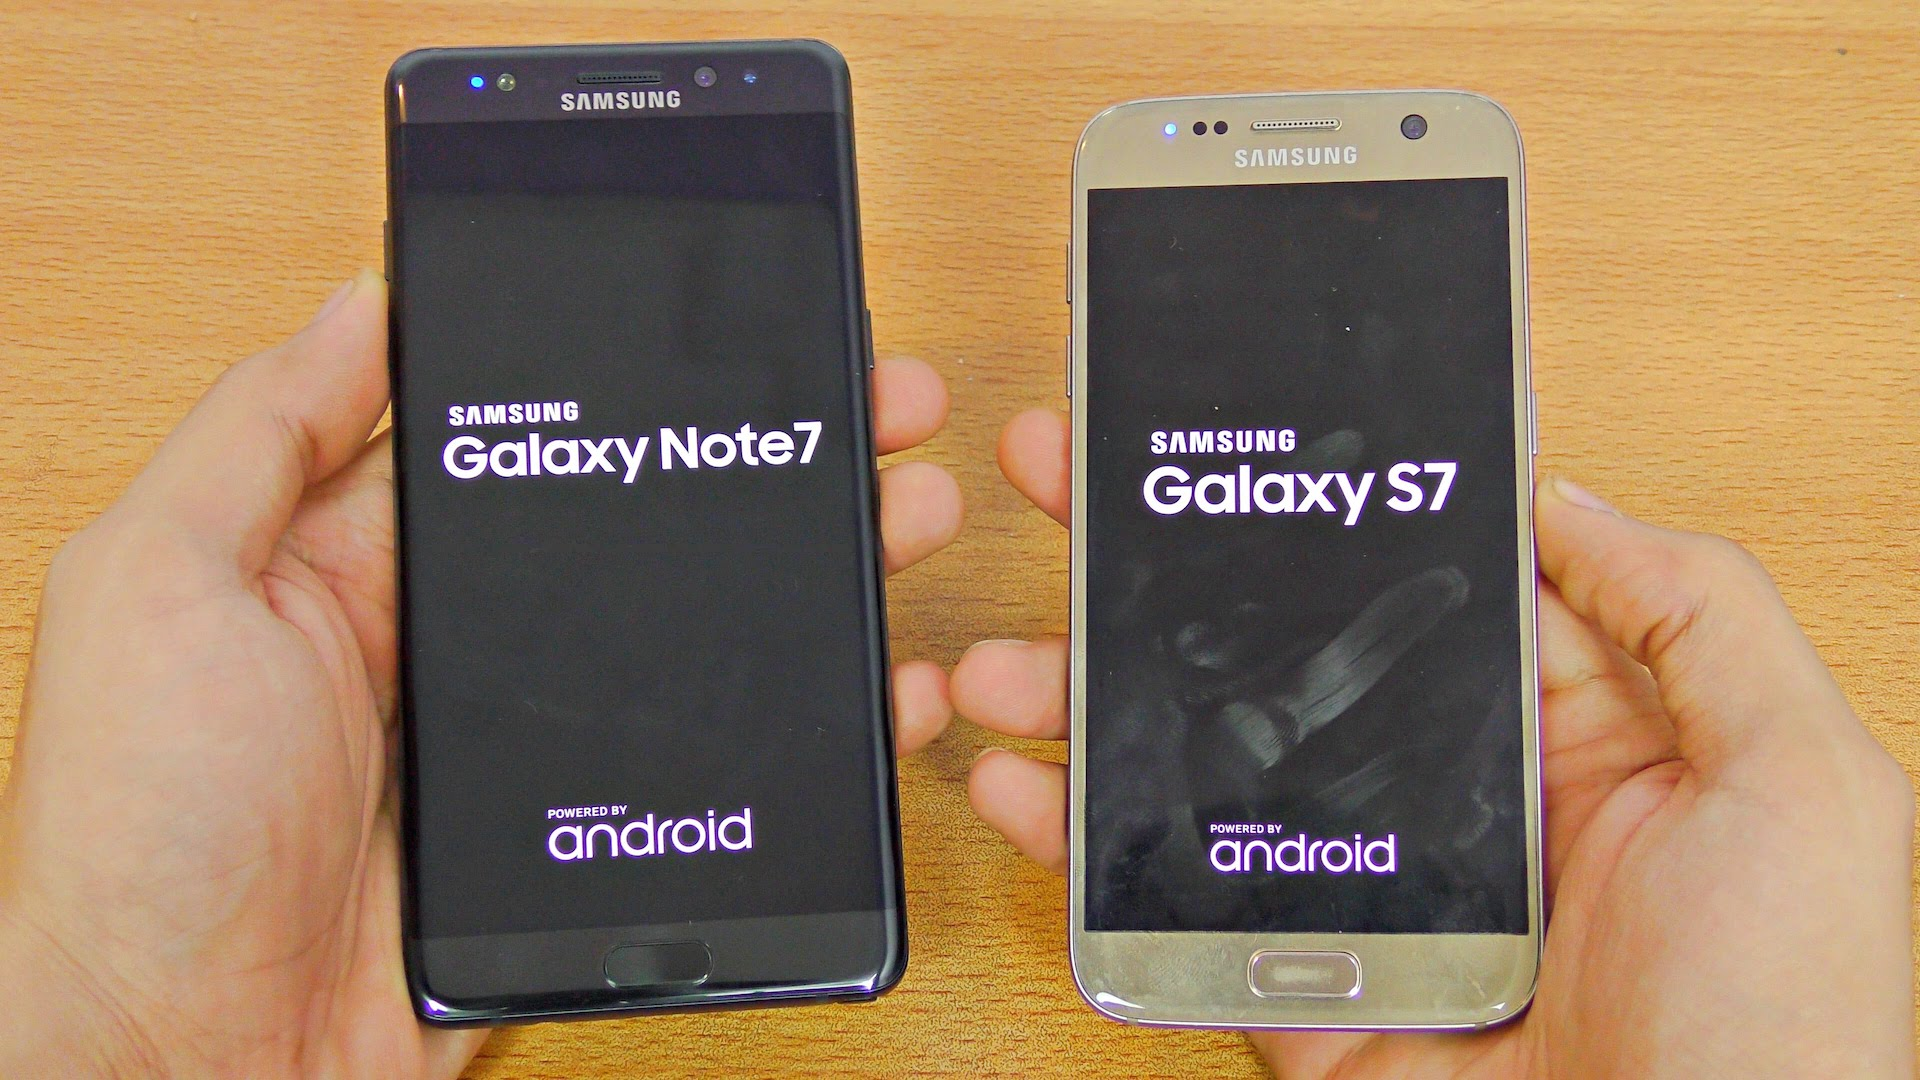smartphone: (382, 36, 910, 1033), (1062, 84, 1553, 1036)
